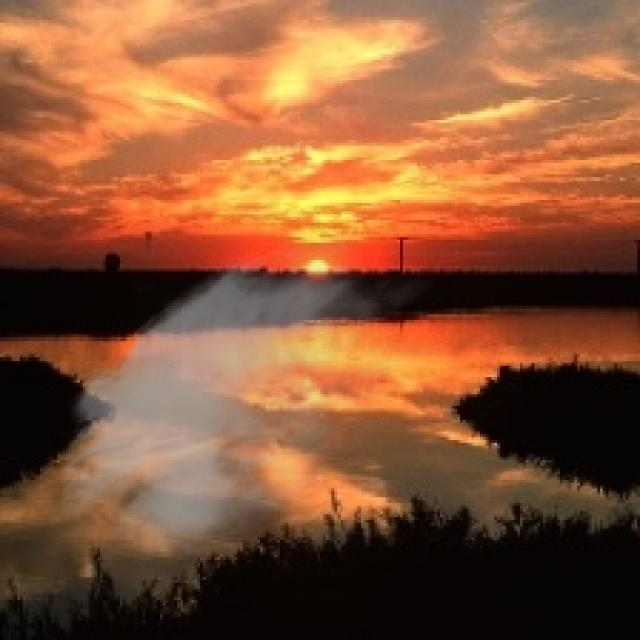Smoke: (46, 222, 434, 574)
